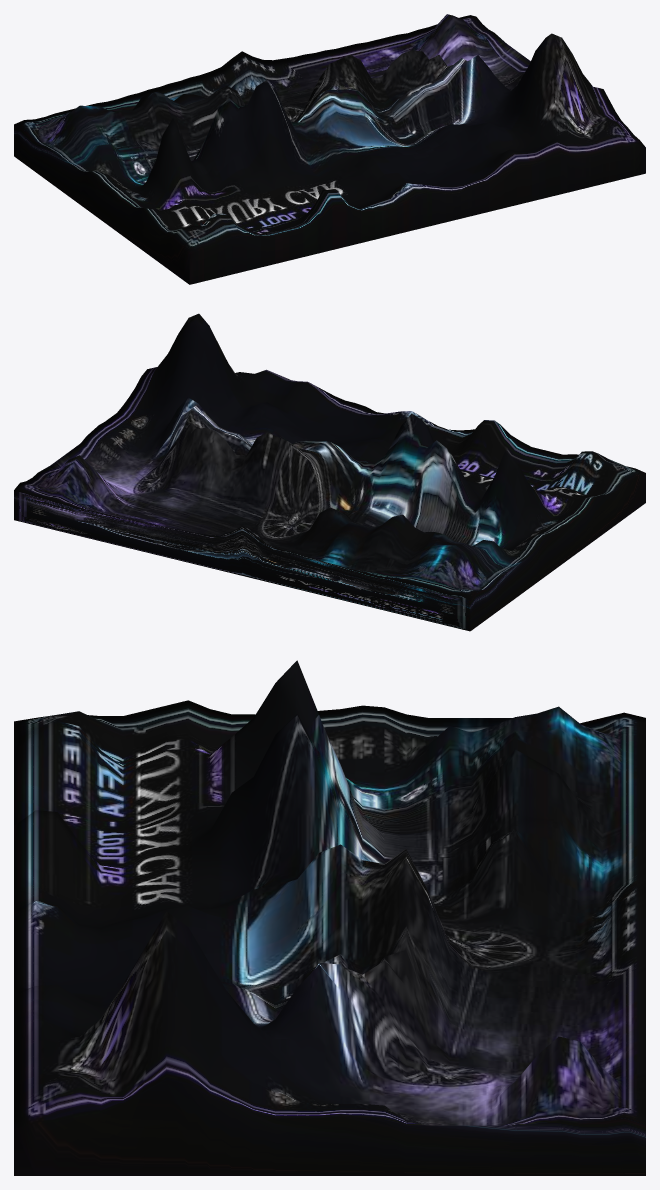
Rendered from CAREER_14_Tool_06_Car.glb.
The picture shows the model from 3 angles, top to bottom: view 1: azimuth 30°, elevation 25°; view 2: azimuth 150°, elevation 25°; view 3: azimuth 270°, elevation 25°; orthographic projection. The views are drawn at different scales.
Parts seen in each view (by area): view 1: CAREER_14_Tool_06_Car; view 2: CAREER_14_Tool_06_Car; view 3: CAREER_14_Tool_06_Car.
Boxes of the visible parts, x1,y1,x2,y2 form: CAREER_14_Tool_06_Car: (14, 14, 645, 284); CAREER_14_Tool_06_Car: (14, 313, 645, 631); CAREER_14_Tool_06_Car: (14, 660, 645, 1175).
Size of the model in its own units: 2 by 0.51 by 1.33.
1 material, 1 textured.
